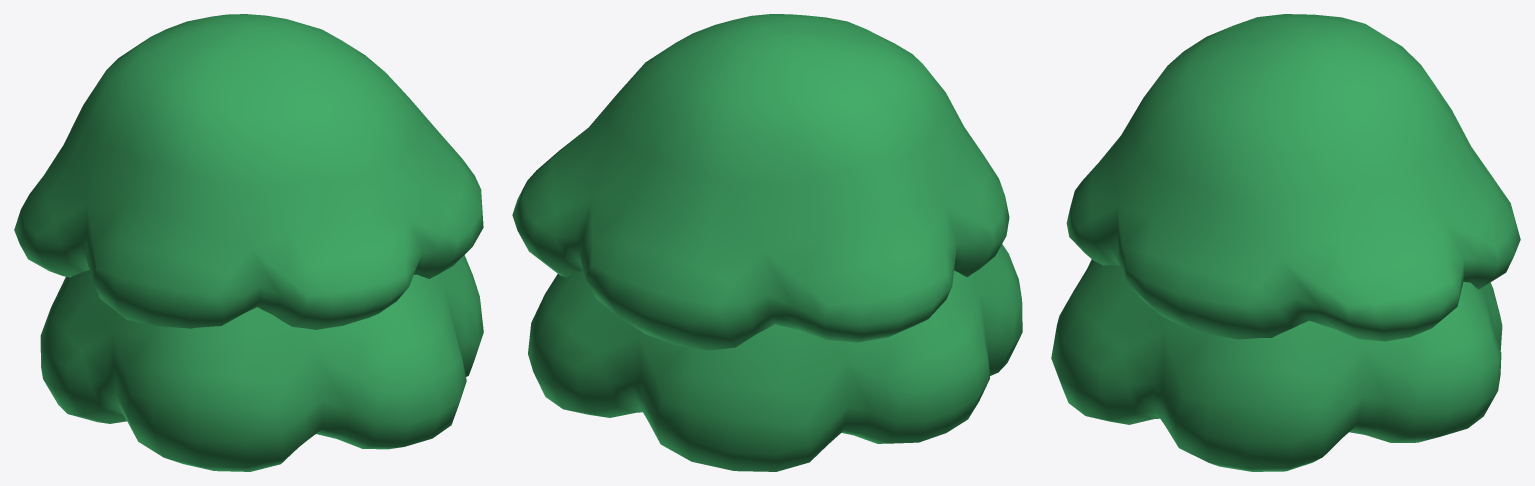
Rendered from Bush_C_03.fbx.
The picture shows the model from 3 angles, left to right: view 1: azimuth 30°, elevation 25°; view 2: azimuth 150°, elevation 25°; view 3: azimuth 270°, elevation 25°; orthographic projection. The views are drawn at different scales.
Parts seen in each view (by area): view 1: Bush_C_03_LOD0; view 2: Bush_C_03_LOD0; view 3: Bush_C_03_LOD0.
Part boxes in pixels (left/top/right/bottom): Bush_C_03_LOD0: left=14, top=14, right=483, bottom=471; Bush_C_03_LOD0: left=512, top=14, right=1022, bottom=471; Bush_C_03_LOD0: left=1051, top=14, right=1520, bottom=471.
Size of what is drawn, in the model's own units: 426 by 367 by 431.
